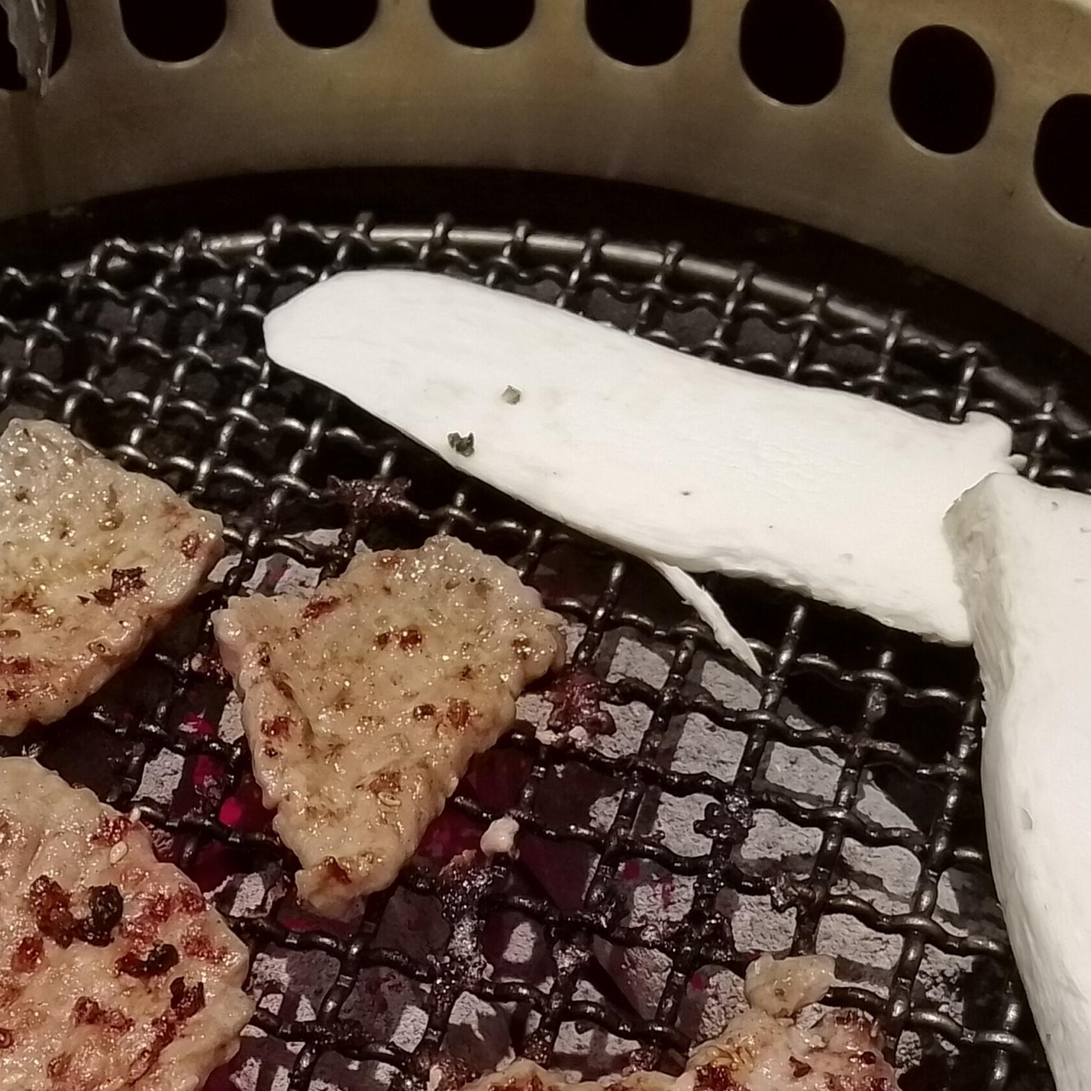Overcooked: (0, 758, 257, 1090)
Well-Cooked: (209, 538, 579, 933), (0, 416, 230, 759)
